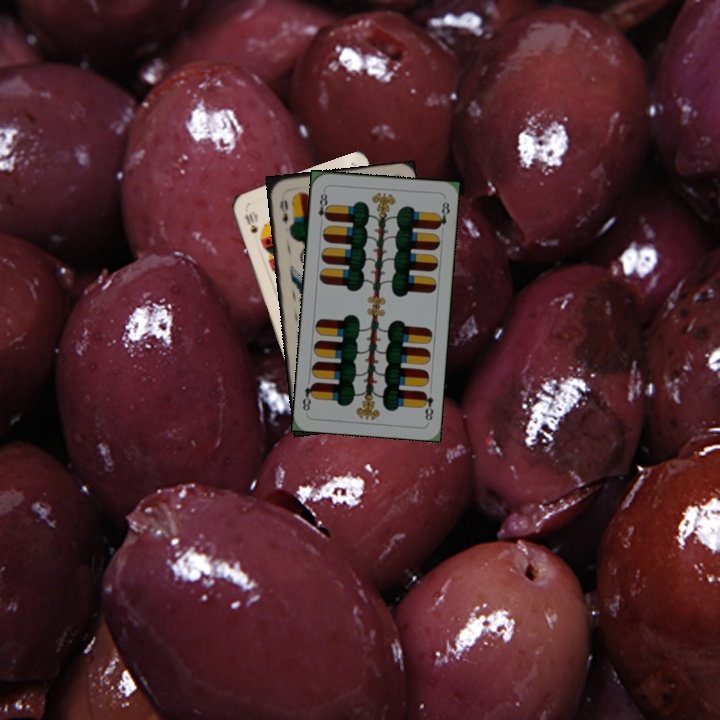E8: (314, 186, 332, 227), (418, 387, 436, 423)
EO: (275, 196, 291, 227)
S10: (241, 210, 260, 236)
